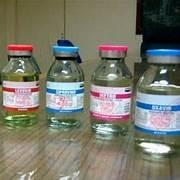Iv_Bottle: (135, 49, 179, 154), (90, 45, 131, 137), (46, 46, 83, 128), (1, 44, 38, 126)
